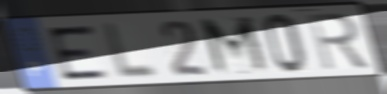0: (262, 12, 312, 75)
2: (160, 18, 210, 78)
E: (44, 22, 112, 83)
L: (102, 20, 161, 81)
M: (197, 14, 275, 78)
R: (305, 11, 373, 73)
